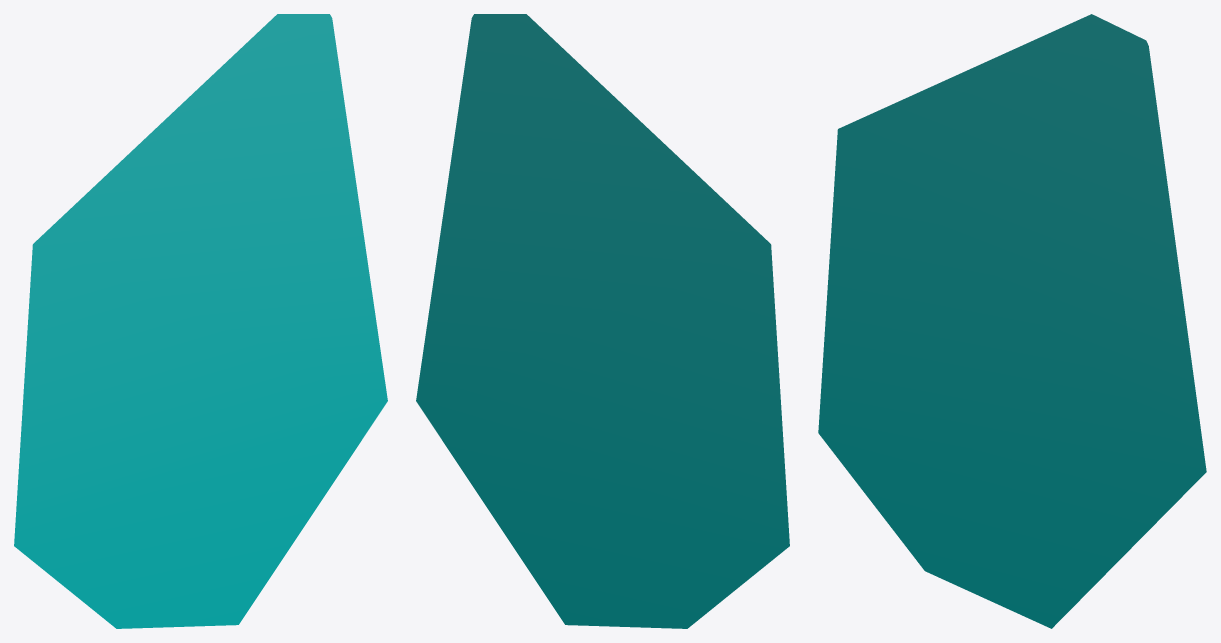
File: Boxwood_wfypfa3ha_Low_wfypfa3ha_VarI_LOD3.fbx
3 views of the same model, side by side, from view 1: azimuth 30°, elevation 25°; view 2: azimuth 150°, elevation 25°; view 3: azimuth 330°, elevation 25° (orthographic). The views are drawn at different scales.
Visible parts, largest first — view 1: _r0y1_VarI_LOD5; view 2: _r0y1_VarI_LOD5; view 3: _r0y1_VarI_LOD5.
Boxes of the visible parts, bbox=[...] form: _r0y1_VarI_LOD5: bbox=[14, 14, 387, 628]; _r0y1_VarI_LOD5: bbox=[416, 14, 789, 628]; _r0y1_VarI_LOD5: bbox=[818, 14, 1206, 628].
Bounding box in the file's own units: 30.31 × 46.59 × 0.
